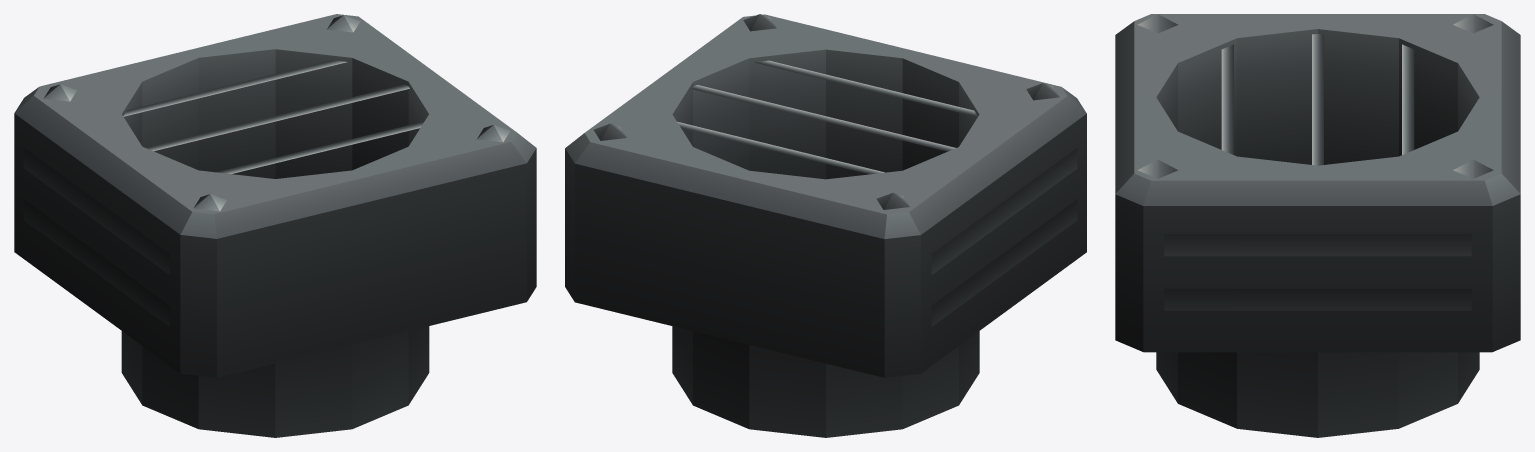
The model's file is Air_Vent_2A.fbx.
3 renders of one model, left to right at view 1: azimuth 30°, elevation 25°; view 2: azimuth 150°, elevation 25°; view 3: azimuth 270°, elevation 25°, orthographic. The views are drawn at different scales.
Visible parts, largest first — view 1: Air_Vent_2A; view 2: Air_Vent_2A; view 3: Air_Vent_2A.
Part boxes in pixels (x1,y1,x2,y2): Air_Vent_2A: [14, 14, 536, 437]; Air_Vent_2A: [565, 14, 1086, 437]; Air_Vent_2A: [1115, 14, 1520, 437].
Size of the model in its own units: 144 by 104 by 135.
